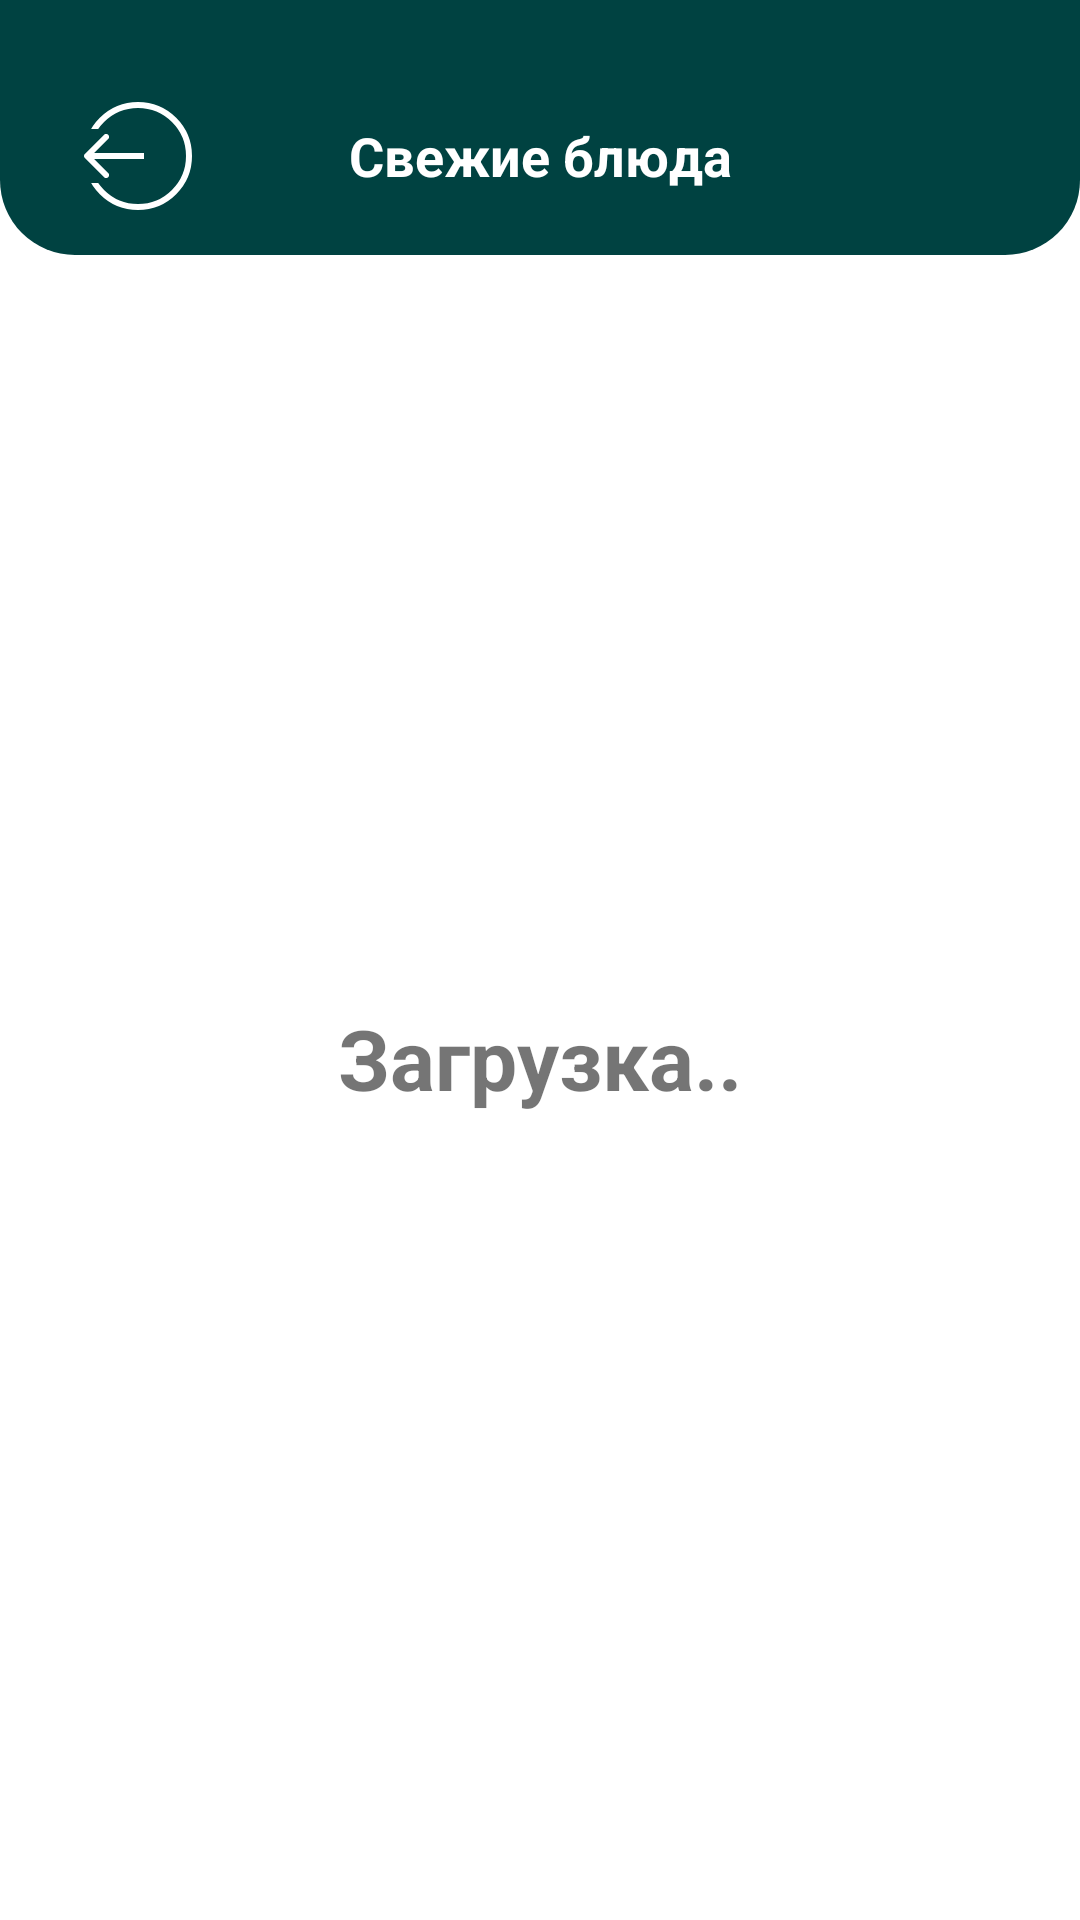

Icon bounding boxes for this 1080×1920 phone screenshot, format (x1, y1, x2, y2):
exit: (84, 102, 192, 210)
